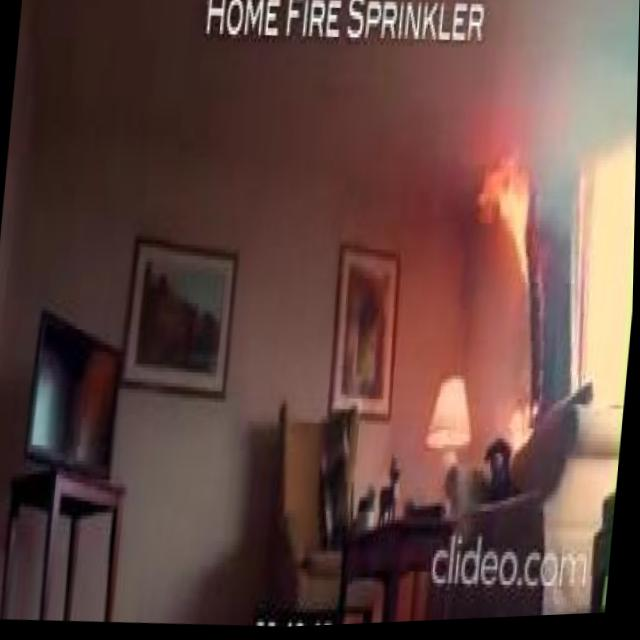fire: (466, 119, 544, 300), (497, 394, 545, 461)
